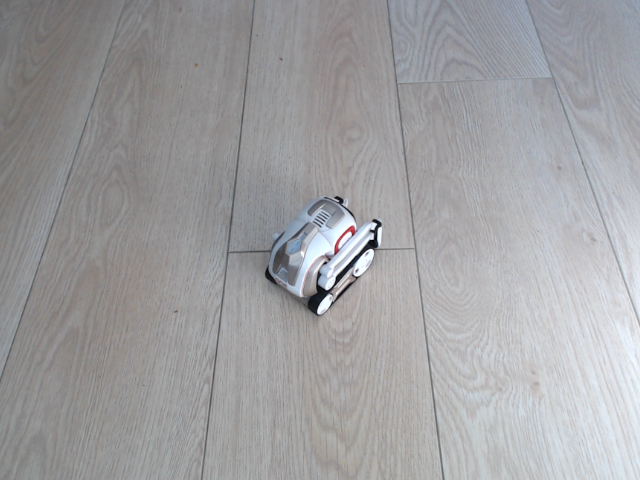cozmo: (264, 194, 384, 317)
